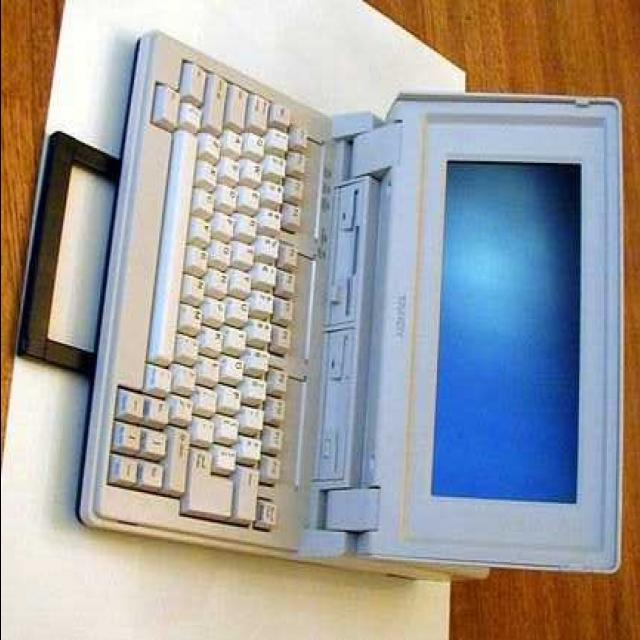laptop: (86, 36, 622, 558)
